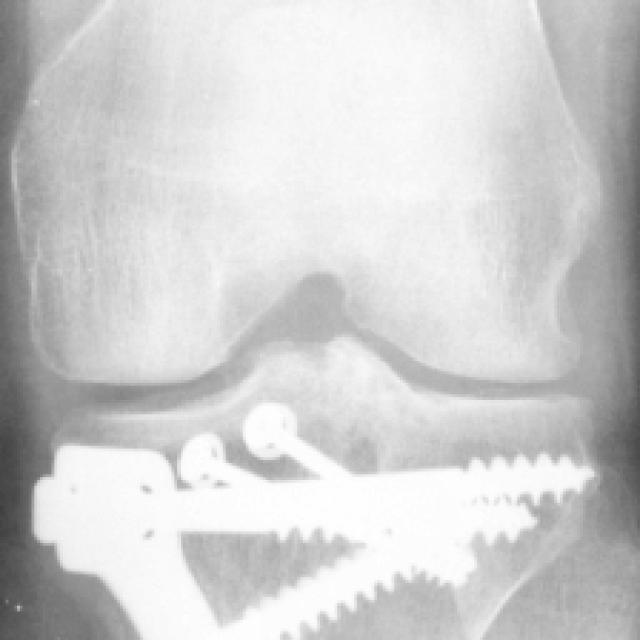femur: (9, 0, 603, 386)
tibia: (30, 333, 602, 640)
